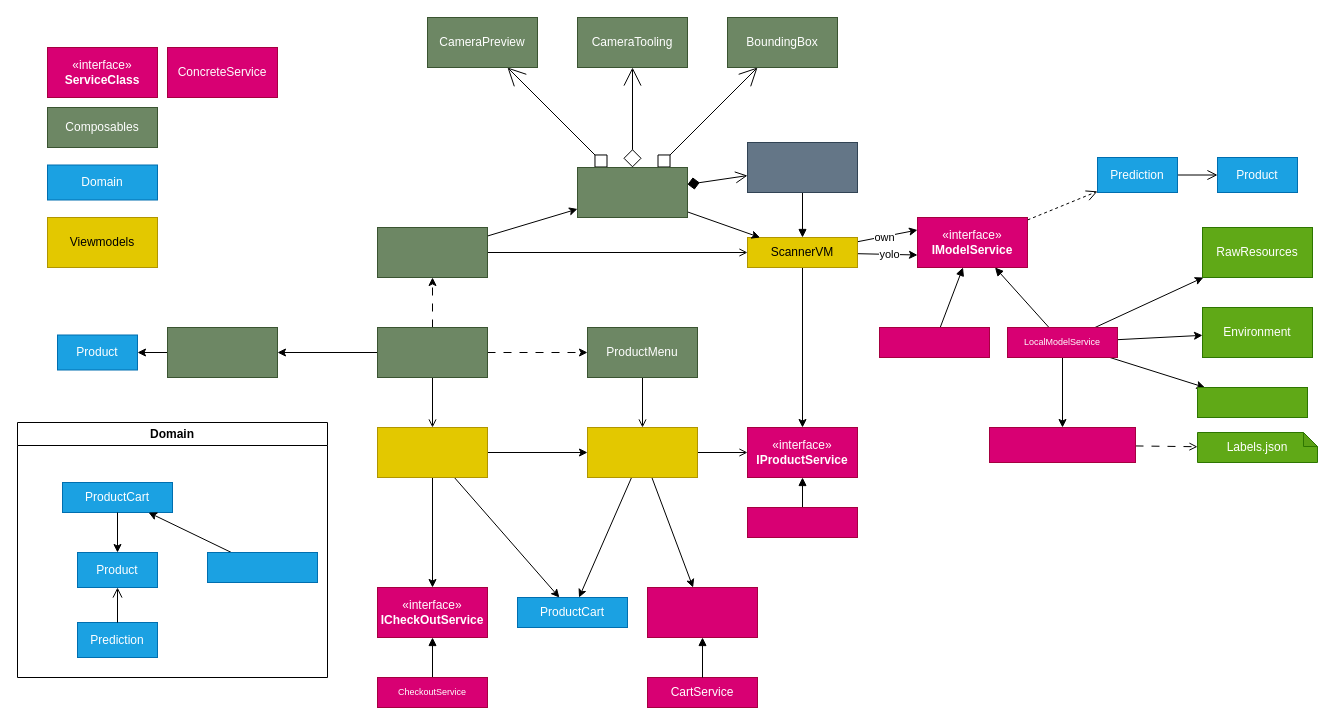
The diagram is 1335 pixels wide and 725 high, and some of its shapes have lost their labels. The shapes that lost their labels are listed below. From the top down, each one's centre as x and y in pixels, then its label:
At point (802, 167): "BreadDetector".
At point (632, 192): "ScannerFunction".
At point (432, 252): "ScannerScreen".
At point (222, 352): "ProductComponent".
At point (432, 352): "CheckoutScreen".
At point (934, 342): "ObjectDetectionService".
At point (1252, 402): "Model".
At point (432, 452): "CheckOutVM".
At point (642, 452): "ProductCartVM".
At point (1062, 444): "RawResourceService".
At point (802, 522): "ProductService".
At point (262, 567): "Transaction".
At point (702, 612): "«interface» ICartService".
